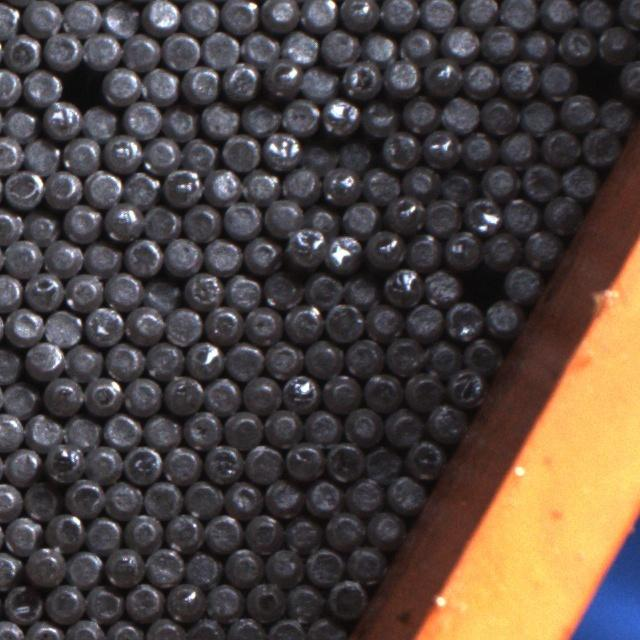tool: (426, 401, 467, 442), (244, 578, 285, 619), (403, 438, 444, 479), (84, 304, 124, 345), (44, 582, 84, 622), (320, 98, 360, 138), (304, 545, 344, 585), (202, 442, 242, 482), (403, 367, 443, 407), (144, 546, 184, 586), (340, 58, 380, 98), (580, 126, 620, 166), (343, 335, 383, 375), (142, 478, 182, 518), (326, 578, 366, 618), (383, 406, 423, 446), (243, 510, 283, 550), (262, 270, 302, 310), (362, 370, 402, 410), (346, 543, 386, 583), (282, 226, 322, 266), (446, 366, 486, 406), (365, 226, 404, 267), (345, 473, 385, 512), (322, 372, 362, 411), (244, 442, 283, 482), (164, 373, 203, 413), (420, 126, 459, 166), (103, 546, 143, 585), (400, 95, 440, 134), (283, 301, 322, 341), (325, 301, 364, 341), (123, 374, 162, 414), (522, 227, 562, 266), (62, 202, 101, 242), (162, 167, 202, 206), (42, 29, 81, 69), (481, 228, 520, 268), (541, 126, 580, 166), (262, 56, 302, 95), (264, 476, 303, 516), (242, 373, 282, 412), (262, 406, 301, 446), (65, 476, 104, 516), (359, 98, 398, 138), (520, 160, 560, 199), (184, 338, 223, 378), (184, 478, 223, 518), (386, 473, 426, 512), (324, 441, 363, 481), (41, 443, 81, 482), (125, 581, 164, 620), (324, 509, 363, 548), (24, 546, 63, 585), (123, 98, 162, 137), (304, 476, 343, 515), (64, 548, 103, 587), (558, 91, 597, 130), (444, 301, 483, 340), (222, 198, 261, 237), (24, 338, 63, 377), (103, 340, 142, 379), (61, 134, 100, 173), (2, 32, 41, 71), (161, 31, 200, 70), (343, 404, 382, 443), (404, 230, 443, 269), (140, 65, 179, 104), (381, 56, 420, 95), (180, 64, 219, 103), (303, 337, 342, 376), (262, 196, 301, 235), (322, 231, 361, 270), (183, 409, 222, 448), (45, 511, 84, 550), (284, 440, 323, 479), (1, 584, 40, 623), (224, 340, 263, 379), (382, 265, 421, 304), (385, 333, 424, 372), (83, 443, 122, 482), (541, 192, 580, 231), (203, 374, 241, 414), (102, 410, 142, 448), (223, 545, 261, 585), (204, 302, 242, 342), (126, 302, 164, 342), (3, 168, 41, 208), (42, 376, 82, 414), (65, 270, 103, 310), (124, 442, 162, 482), (262, 130, 302, 168), (164, 510, 202, 550), (442, 228, 480, 268), (303, 270, 343, 308), (83, 375, 121, 415), (166, 578, 204, 618), (201, 29, 239, 68), (320, 28, 359, 66), (24, 270, 63, 308), (44, 307, 82, 346), (221, 132, 260, 170), (380, 130, 419, 168), (303, 408, 342, 446), (81, 30, 119, 69), (43, 168, 82, 206), (441, 94, 479, 133), (104, 270, 142, 309), (459, 128, 497, 167), (204, 511, 242, 550), (243, 304, 282, 342), (120, 31, 158, 70), (102, 133, 141, 171), (42, 100, 81, 138), (596, 21, 634, 60), (123, 510, 162, 548), (282, 371, 320, 410), (183, 548, 221, 587), (103, 478, 141, 517), (163, 306, 202, 344), (422, 56, 461, 94), (182, 202, 220, 241), (143, 411, 182, 449), (4, 306, 42, 345), (184, 270, 222, 309), (84, 582, 122, 621), (484, 297, 522, 336), (142, 202, 180, 241), (263, 338, 301, 377), (143, 340, 182, 378), (61, 412, 100, 450), (223, 408, 261, 447), (64, 341, 102, 380), (241, 98, 280, 136), (285, 581, 323, 620), (221, 61, 259, 100), (264, 542, 302, 581), (463, 195, 501, 234), (502, 264, 541, 302), (388, 191, 427, 229), (205, 580, 242, 620), (22, 67, 60, 105), (3, 445, 41, 483), (557, 24, 595, 62), (502, 195, 540, 233), (101, 66, 139, 104), (405, 300, 443, 338), (500, 128, 538, 166), (122, 169, 160, 207), (281, 96, 319, 134), (519, 97, 557, 135), (203, 236, 241, 274), (200, 100, 238, 138), (103, 202, 141, 240), (480, 22, 518, 60), (22, 482, 60, 520), (180, 135, 218, 173), (499, 58, 537, 96), (2, 514, 40, 552), (3, 238, 41, 276), (284, 512, 322, 550), (141, 135, 179, 173), (81, 102, 119, 140), (423, 266, 461, 304), (124, 237, 162, 275), (224, 478, 262, 516), (241, 234, 279, 272), (164, 236, 202, 274), (84, 168, 122, 206), (365, 302, 403, 340), (163, 445, 201, 483), (323, 164, 361, 202), (537, 59, 575, 97), (480, 162, 518, 200), (299, 62, 337, 100), (362, 165, 400, 203), (365, 506, 403, 544), (560, 160, 598, 198), (364, 443, 402, 481), (61, 66, 99, 104), (481, 96, 518, 135), (423, 336, 462, 373), (598, 95, 637, 132), (465, 334, 504, 371), (225, 271, 262, 309), (399, 25, 437, 62), (203, 166, 241, 203), (441, 23, 478, 61), (424, 196, 462, 233), (240, 29, 278, 66), (1, 379, 38, 417), (22, 206, 59, 244), (461, 59, 499, 96), (241, 165, 279, 202), (1, 104, 38, 142), (22, 136, 60, 173), (402, 160, 440, 197), (162, 102, 199, 140), (282, 163, 320, 200), (143, 276, 181, 313), (338, 136, 376, 173), (437, 167, 475, 204), (463, 265, 501, 302), (44, 238, 83, 274), (577, 59, 616, 95), (342, 198, 379, 235), (359, 28, 396, 65), (85, 515, 122, 552), (344, 271, 381, 308), (282, 27, 318, 65), (102, 0, 140, 36), (301, 203, 339, 239), (21, 0, 60, 35), (26, 411, 62, 448), (84, 238, 121, 274), (519, 26, 556, 62), (301, 135, 338, 171), (62, 0, 100, 35), (180, 0, 218, 34), (142, 0, 180, 34), (219, 0, 257, 33), (260, 0, 299, 31), (300, 0, 337, 31), (379, 0, 417, 30), (338, 0, 377, 29), (577, 0, 614, 30), (499, 0, 537, 29), (418, 0, 456, 29), (537, 0, 575, 29), (224, 614, 264, 640), (144, 614, 183, 640), (458, 0, 496, 26), (266, 614, 304, 640), (306, 614, 344, 640), (64, 616, 104, 640), (184, 616, 224, 640), (616, 58, 640, 97), (23, 617, 63, 640), (0, 411, 24, 448), (0, 270, 22, 310), (0, 479, 22, 518), (0, 206, 23, 243), (104, 618, 142, 640), (0, 134, 21, 172), (0, 66, 20, 105), (0, 345, 20, 383), (0, 550, 20, 588), (0, 0, 19, 38)
